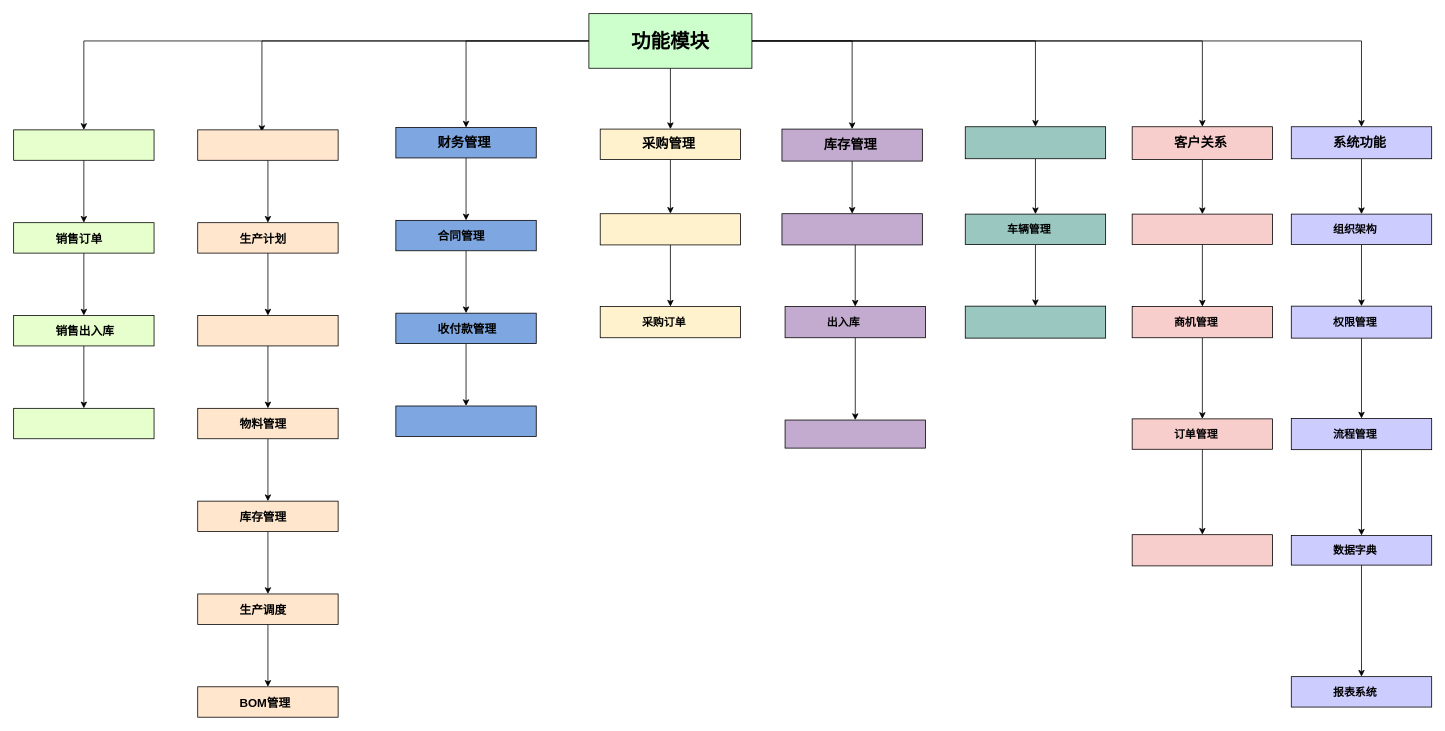
Some shapes in this 1445 by 731 pixel diagram are drawn without their labels. Each missing label, with the box of its shape:
发票管理: (395, 405, 536, 436)
客户管理: (1131, 534, 1273, 566)
成本核算: (784, 419, 925, 448)
生产任务: (197, 315, 338, 346)
生产管理: (197, 129, 338, 160)
盘库、调拨: (781, 213, 922, 245)
线索管理: (1131, 213, 1273, 245)
运单管理: (964, 305, 1106, 338)
运输管理: (964, 126, 1106, 159)
采购计划: (599, 213, 741, 245)
销售管理: (13, 129, 154, 160)
销售计划: (13, 408, 154, 439)
